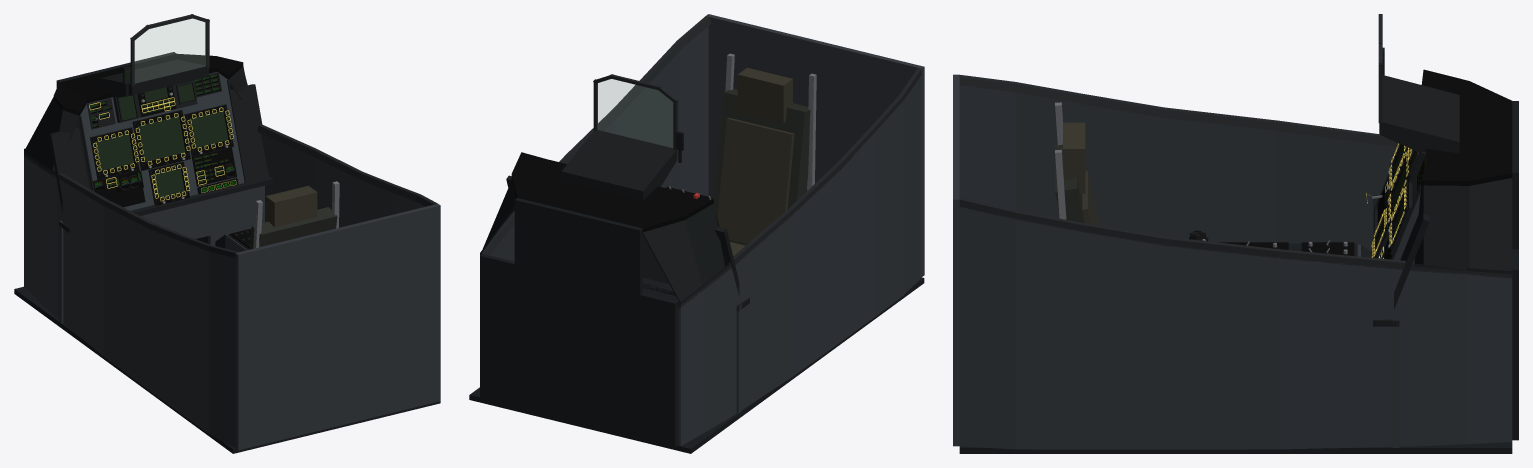
The model's file is cockpit_f22.glb.
3 views of the same model, side by side, from view 1: azimuth 30°, elevation 25°; view 2: azimuth 150°, elevation 25°; view 3: azimuth 270°, elevation 25° (orthographic). The views are drawn at different scales.
Visible parts, largest first — view 1: panel_grey.005, panel_grey.003, panel_grey.004, hud_glass_69, panel_grey, dark.010, dark.026, panel_grey.007, frame.001, dark.014, cushion_97, panel_grey.008 (+18 smaller); view 2: panel_grey.003, dark, panel_grey.005, dark.001, panel_grey.004, cushion_96, dark.026, black, hud_glass_69, seat_95, dark.003, cushion_97 (+11 smaller); view 3: panel_grey.004, panel_grey.003, frame.001, dark.026, frame, black, dark.006, dark.005, dark.014, panel_grey.005, cushion_97, black.002 (+8 smaller).
Boxes of the visible parts, <box> form: panel_grey.005: <box>235,204,440,450</box>; panel_grey.003: <box>24,156,235,448</box>; panel_grey.004: <box>261,133,424,227</box>; hud_glass_69: <box>135,19,205,83</box>; panel_grey: <box>77,72,244,210</box>; dark.010: <box>231,84,268,181</box>; dark.026: <box>100,59,208,97</box>; panel_grey.007: <box>208,185,264,245</box>; frame.001: <box>257,124,437,206</box>; dark.014: <box>14,286,440,453</box>; cushion_97: <box>265,185,317,227</box>; panel_grey.008: <box>140,199,210,238</box>; panel_grey.003: <box>677,75,921,446</box>; dark: <box>480,254,677,447</box>; panel_grey.005: <box>706,14,924,276</box>; dark.001: <box>514,198,642,294</box>; panel_grey.004: <box>490,26,708,261</box>; cushion_96: <box>717,117,794,243</box>; dark.026: <box>561,129,677,200</box>; black: <box>518,159,685,228</box>; hud_glass_69: <box>597,79,672,147</box>; seat_95: <box>713,88,810,245</box>; dark.003: <box>642,220,702,304</box>; cushion_97: <box>737,67,792,123</box>; panel_grey.004: <box>959,207,1512,449</box>; panel_grey.003: <box>959,85,1414,261</box>; frame.001: <box>959,197,1512,278</box>; dark.026: <box>1379,75,1459,152</box>; frame: <box>959,75,1399,146</box>; black: <box>1425,85,1512,172</box>; dark.006: <box>1469,178,1512,273</box>; dark.005: <box>1423,185,1469,270</box>; dark.014: <box>959,442,1512,453</box>; panel_grey.005: <box>953,74,959,446</box>; cushion_97: <box>1063,122,1085,193</box>; black.002: <box>1421,165,1512,186</box>.
Bounding box in the file's own units: 0.944 × 1.21 × 1.72.
30 materials, 6 textured.
